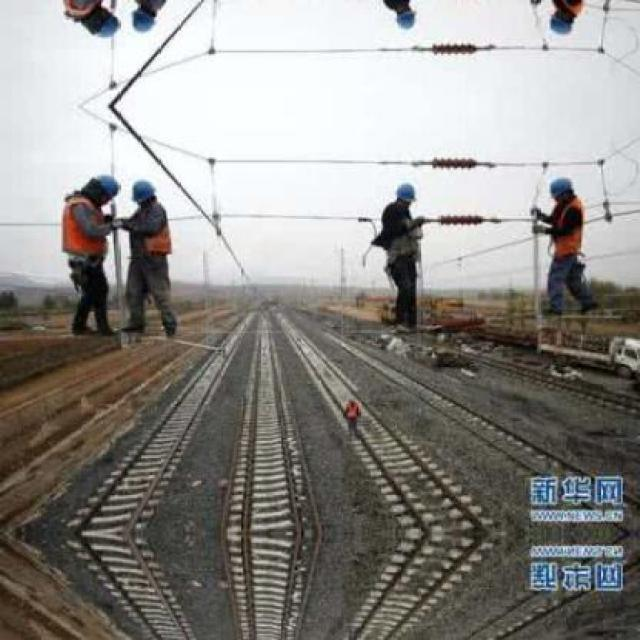helmet: (82, 173, 121, 205), (82, 7, 121, 39), (549, 173, 577, 210), (549, 1, 577, 38), (128, 2, 158, 36), (128, 177, 158, 210), (394, 0, 420, 34), (394, 180, 418, 213)
